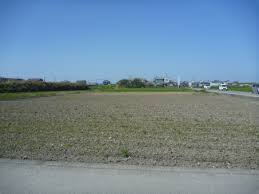field: (5, 83, 259, 191)
sky: (1, 1, 258, 80)
